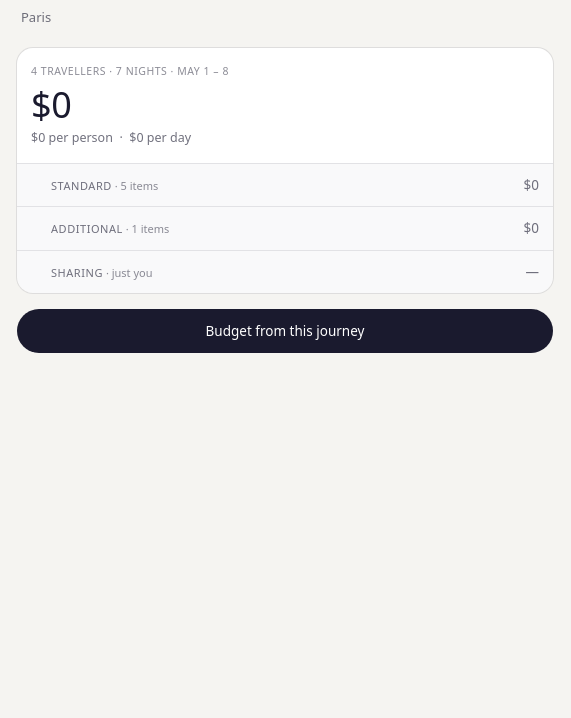
Scenario: Budget from this journey, outside Canada › a Canadian, or nothing said, gets the same figures as before
This screenshot has width=571, height=718.
Click the button "Budget from this journey": coordinates (285, 331) top-left (17, 309), bottom-right (553, 353)
Wait 800 ms
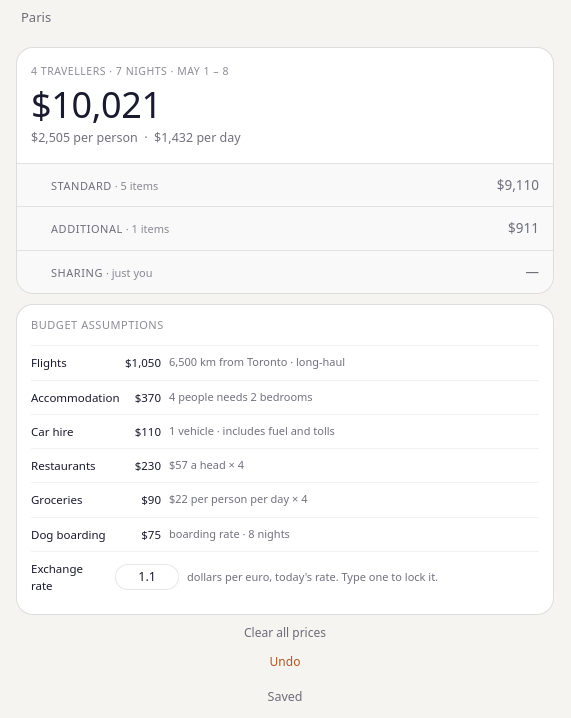
expect the text "6,500 km from Toronto · long-haul" is shown: met, box top-left (169, 354), bottom-right (345, 369)
